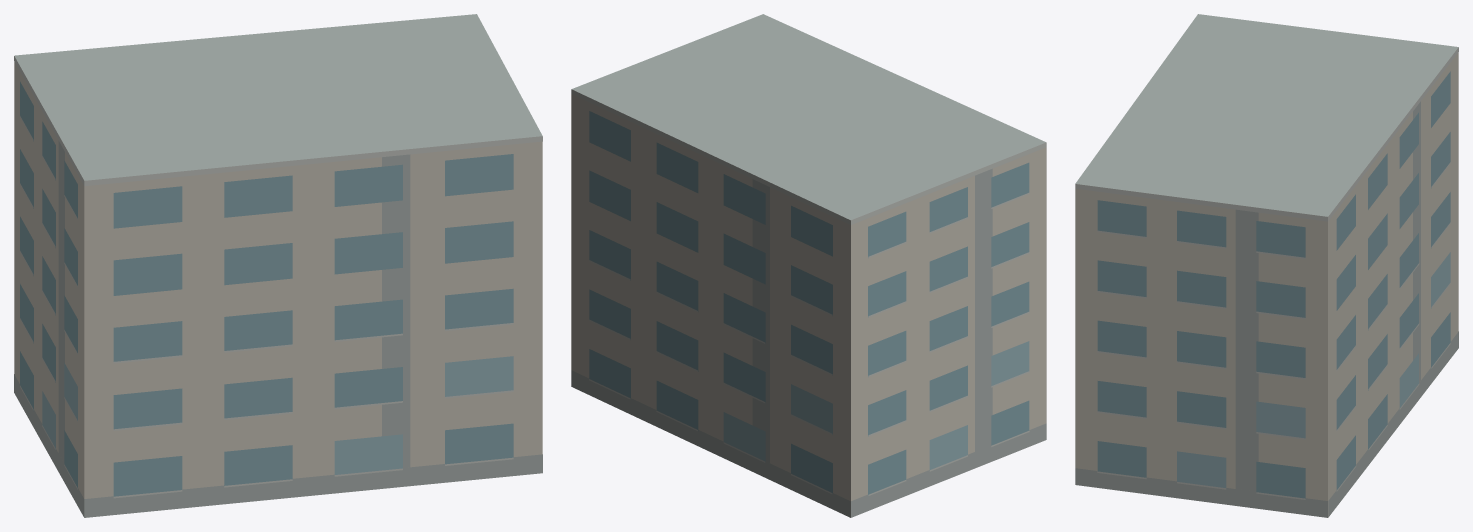
The model's file is survey-upis-32906947.glb.
3 views of the same model, side by side, from view 1: azimuth 30°, elevation 25°; view 2: azimuth 150°, elevation 25°; view 3: azimuth 270°, elevation 25° (orthographic). The views are drawn at different scales.
Visible parts, largest first — view 1: survey-upis-32906947.tmp; view 2: survey-upis-32906947.tmp; view 3: survey-upis-32906947.tmp.
Boxes of the visible parts, <box> form: survey-upis-32906947.tmp: <box>14,14,542,517</box>; survey-upis-32906947.tmp: <box>571,14,1046,517</box>; survey-upis-32906947.tmp: <box>1075,14,1458,517</box>.
Size of the model in its own units: 22.05 by 15.25 by 17.62.
